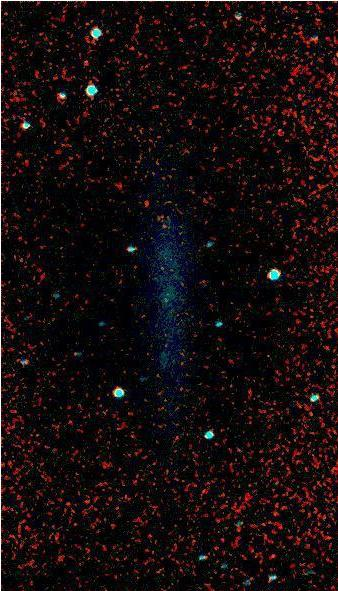star: (130, 189, 160, 219)
